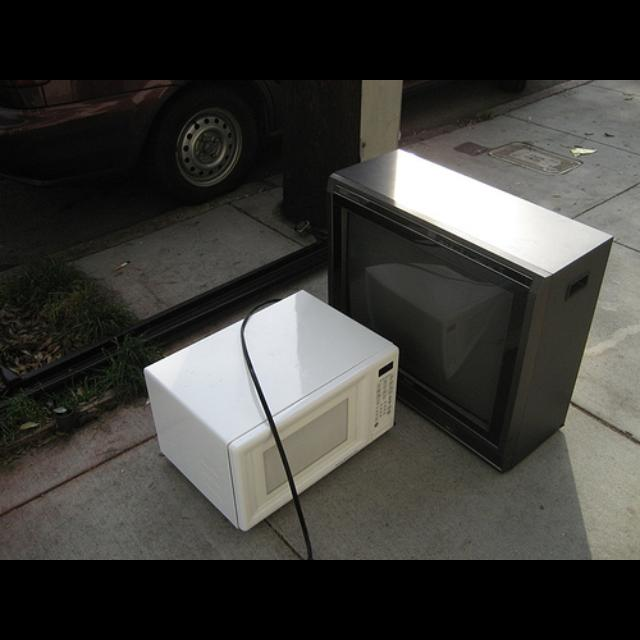Microwave: (140, 289, 400, 533)
